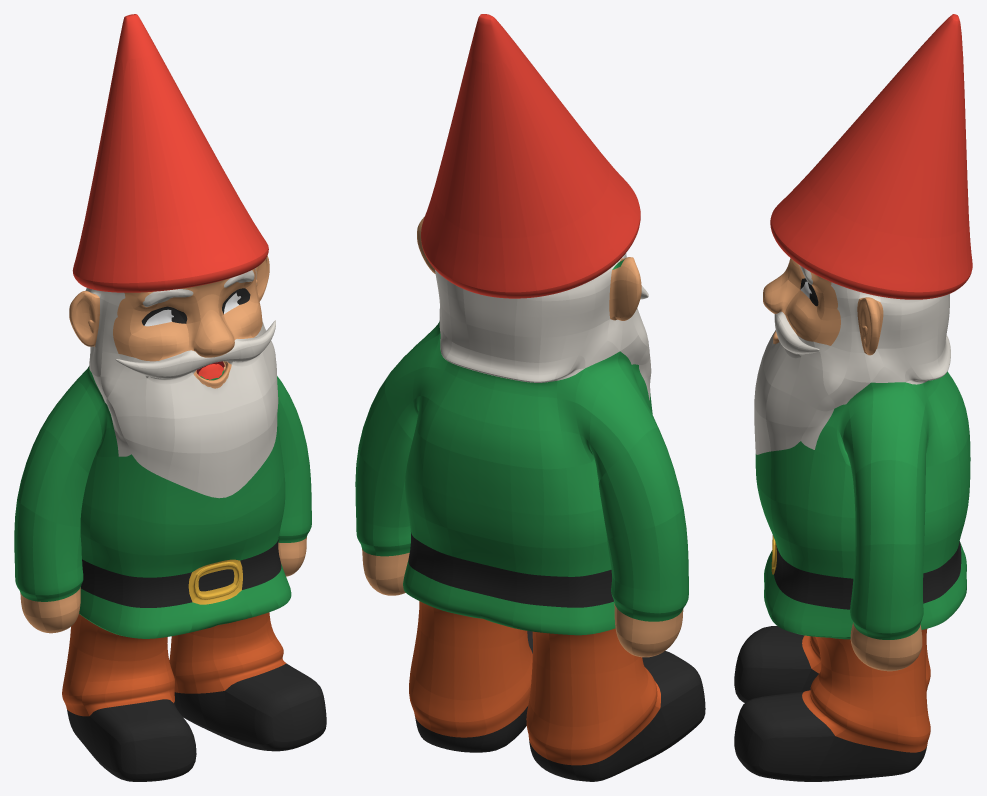
Rendered from Gnome 1.fbx.
The picture shows the model from 3 angles, left to right: view 1: azimuth 30°, elevation 25°; view 2: azimuth 150°, elevation 25°; view 3: azimuth 270°, elevation 25°; orthographic projection. The views are drawn at different scales.
Parts seen in each view (by area): view 1: Gnome; view 2: Gnome; view 3: Gnome.
Part boxes in pixels (bbox=[...]): Gnome: bbox=[14, 14, 326, 781]; Gnome: bbox=[355, 14, 705, 781]; Gnome: bbox=[734, 14, 972, 781].
Bounding box in the file's own units: 55.8 × 127 × 38.04.
